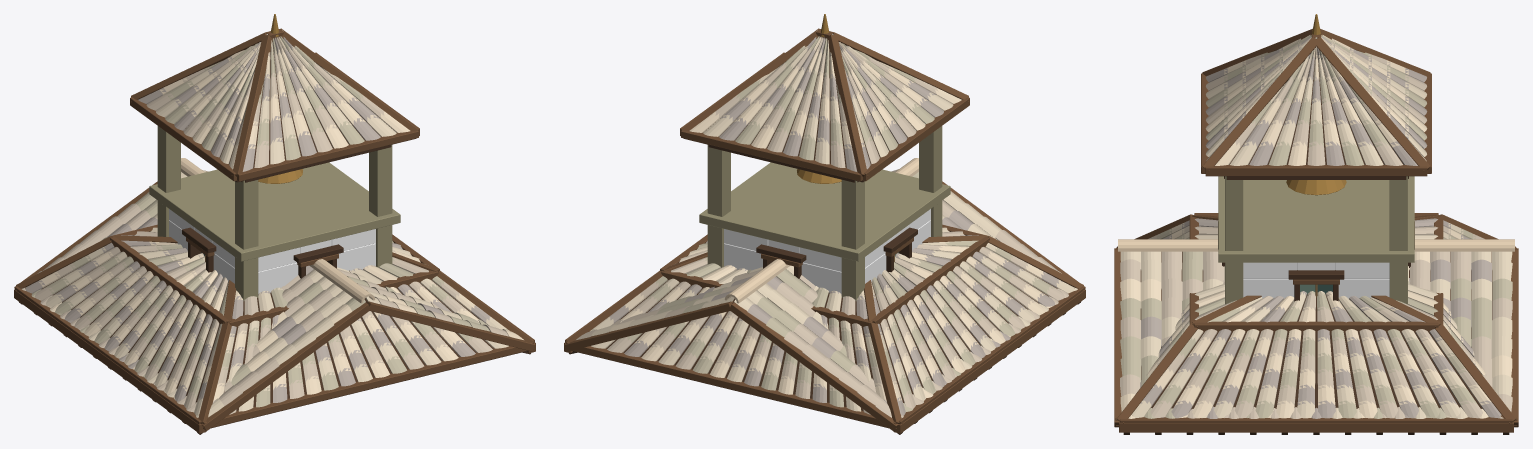
The model's file is district-kit.glb.
3 views of the same model, side by side, from view 1: azimuth 30°, elevation 25°; view 2: azimuth 150°, elevation 25°; view 3: azimuth 270°, elevation 25° (orthographic). The views are drawn at different scales.
Visible parts, largest first — view 1: district_tower_stone_light, district_roof-mansard_terracotta_russet.001, district_roof-mansard_terracotta_lit.001, district_tower_timber_endgrain, district_roof-mansard_terracotta_aged.001, district_roof-mansard_terracotta_umber.001, district_roof-mansard_terracotta_warm.001, district_roof-gable_timber_endgrain, district_roof-mansard_timber_endgrain, district_roof-gable_terracotta_russet.001, district_roof-hip_timber_endgrain, district_tower_terracotta_umber.001 (+13 smaller); view 2: district_tower_stone_light, district_roof-mansard_terracotta_russet.001, district_tower_timber_endgrain, district_roof-mansard_terracotta_aged.001, district_roof-mansard_terracotta_lit.001, district_roof-mansard_terracotta_warm.001, district_roof-mansard_terracotta_umber.001, district_roof-gable_timber_endgrain, district_roof-mansard_timber_endgrain, district_roof-gable_terracotta_russet.001, district_roof-hip_timber_endgrain, district_tower_terracotta_umber.001 (+12 smaller); view 3: district_tower_stone_light, district_tower_timber_endgrain, district_roof-mansard_terracotta_warm.001, district_roof-mansard_timber_endgrain, district_roof-mansard_terracotta_lit.001, district_roof-mansard_terracotta_umber.001, district_roof-mansard_terracotta_russet.001, district_roof-mansard_terracotta_aged.001, district_roof-gable_terracotta_russet.001, district_roof-gable_timber_endgrain, district_tower_terracotta_umber.001, district_tower_terracotta_lit.001 (+14 smaller).
Part boxes in pixels (left/top/right/bottom): district_tower_stone_light: left=149, top=126, right=400, bottom=301; district_roof-mansard_terracotta_russet.001: left=35, top=231, right=492, bottom=414; district_roof-mansard_terracotta_lit.001: left=39, top=241, right=479, bottom=401; district_tower_timber_endgrain: left=130, top=28, right=419, bottom=267; district_roof-mansard_terracotta_aged.001: left=45, top=241, right=507, bottom=407; district_roof-mansard_terracotta_umber.001: left=25, top=235, right=493, bottom=403; district_roof-mansard_terracotta_warm.001: left=45, top=227, right=509, bottom=415; district_roof-gable_timber_endgrain: left=14, top=170, right=535, bottom=433; district_roof-mansard_timber_endgrain: left=16, top=224, right=533, bottom=423; district_roof-gable_terracotta_russet.001: left=22, top=203, right=508, bottom=412; district_roof-hip_timber_endgrain: left=15, top=270, right=534, bottom=429; district_tower_terracotta_umber.001: left=138, top=34, right=380, bottom=171; district_tower_stone_light: left=699, top=126, right=950, bottom=301; district_roof-mansard_terracotta_russet.001: left=607, top=231, right=1064, bottom=414; district_tower_timber_endgrain: left=680, top=28, right=969, bottom=267; district_roof-mansard_terracotta_aged.001: left=592, top=240, right=1054, bottom=407; district_roof-mansard_terracotta_lit.001: left=620, top=245, right=1046, bottom=401; district_roof-mansard_terracotta_warm.001: left=590, top=227, right=1074, bottom=411; district_roof-mansard_terracotta_umber.001: left=606, top=235, right=1061, bottom=415; district_roof-gable_timber_endgrain: left=564, top=181, right=1085, bottom=433; district_roof-mansard_timber_endgrain: left=566, top=224, right=1083, bottom=423; district_roof-gable_terracotta_russet.001: left=576, top=169, right=1068, bottom=417; district_roof-hip_timber_endgrain: left=565, top=270, right=1084, bottom=429; district_tower_terracotta_umber.001: left=719, top=30, right=943, bottom=171; district_tower_stone_light: left=1218, top=176, right=1414, bottom=304; district_tower_timber_endgrain: left=1201, top=28, right=1431, bottom=284; district_roof-mansard_terracotta_warm.001: left=1131, top=223, right=1497, bottom=418; district_roof-mansard_timber_endgrain: left=1116, top=213, right=1516, bottom=421; district_roof-mansard_terracotta_lit.001: left=1147, top=229, right=1491, bottom=418; district_roof-mansard_terracotta_umber.001: left=1140, top=218, right=1501, bottom=418; district_roof-mansard_terracotta_russet.001: left=1148, top=225, right=1484, bottom=418; district_roof-mansard_terracotta_aged.001: left=1155, top=228, right=1477, bottom=418; district_roof-gable_terracotta_russet.001: left=1120, top=251, right=1512, bottom=418; district_roof-gable_timber_endgrain: left=1114, top=248, right=1518, bottom=432; district_tower_terracotta_umber.001: left=1205, top=36, right=1427, bottom=165; district_tower_terracotta_lit.001: left=1205, top=37, right=1427, bottom=165.
Size of the model in its own units: 9.51 by 9.09 by 9.27.
